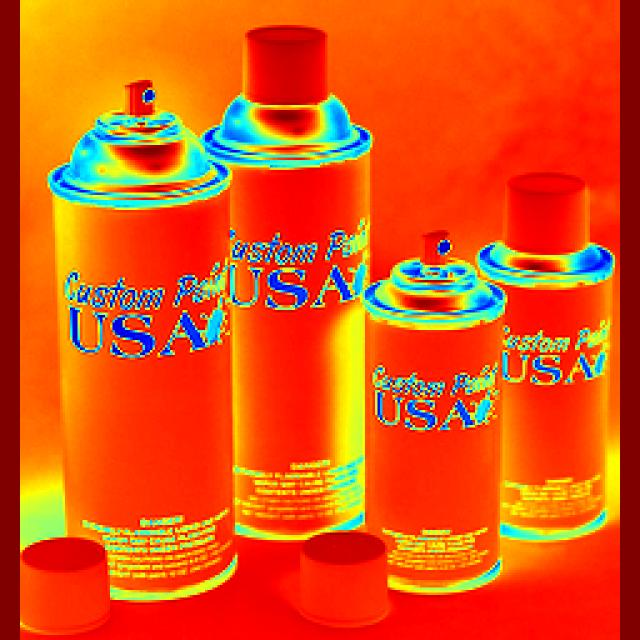Aerosol Cans: (47, 74, 237, 586), (224, 20, 373, 545), (366, 219, 506, 595), (493, 156, 614, 535)
